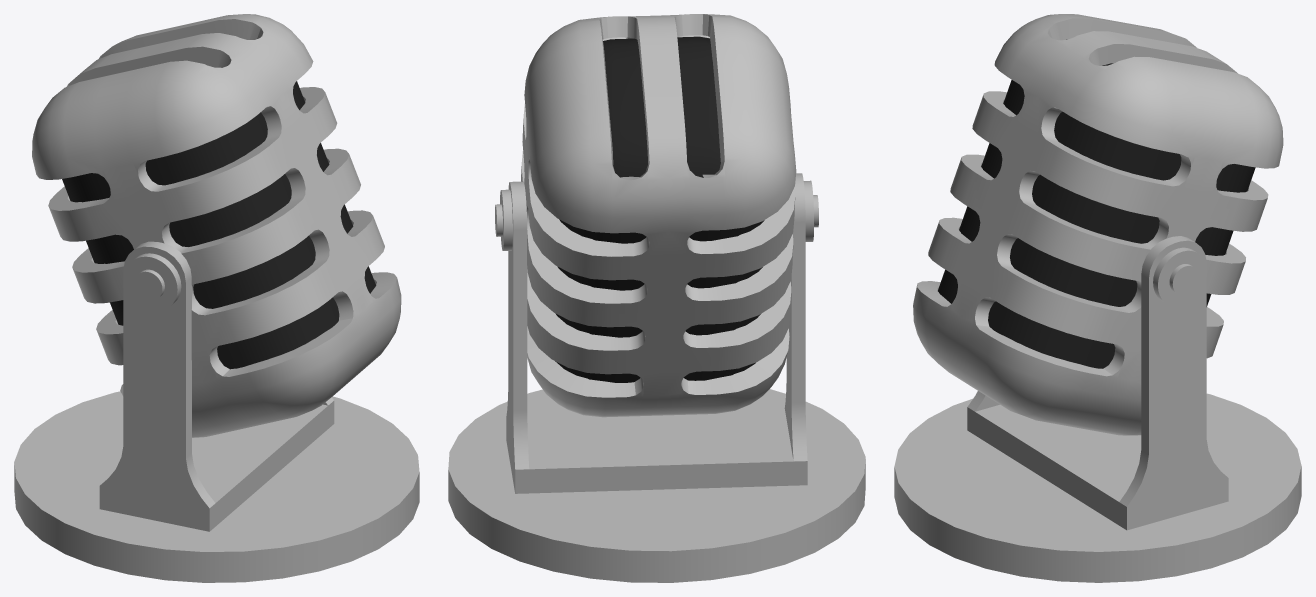
The model's file is studio_microphone.glb.
3 views of the same model, side by side, from view 1: azimuth 30°, elevation 25°; view 2: azimuth 150°, elevation 25°; view 3: azimuth 270°, elevation 25° (orthographic). The views are drawn at different scales.
Parts seen in each view (by area): view 1: Cube.848; view 2: Cube.848; view 3: Cube.848.
Boxes of the visible parts, bbox=[...] form: Cube.848: bbox=[14, 14, 419, 582]; Cube.848: bbox=[448, 14, 865, 582]; Cube.848: bbox=[894, 14, 1301, 582].
Size of the model in its own units: 1.71 by 2.13 by 1.71.
1 material, 1 textured.
